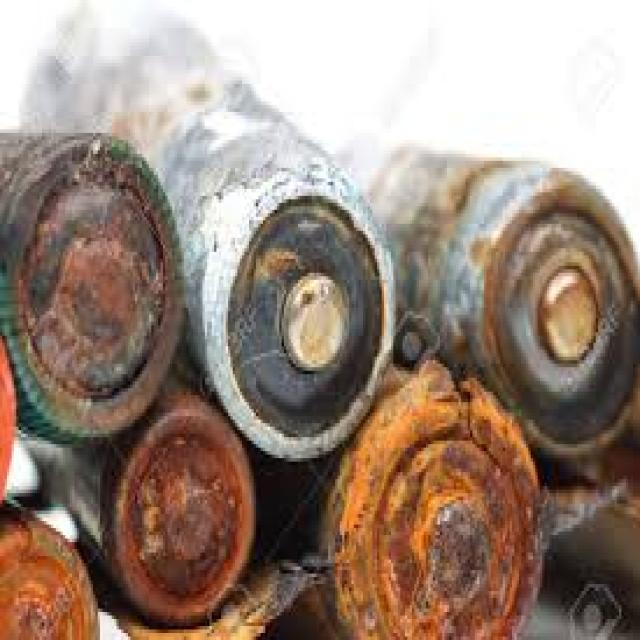battery: (0, 4, 638, 637)
